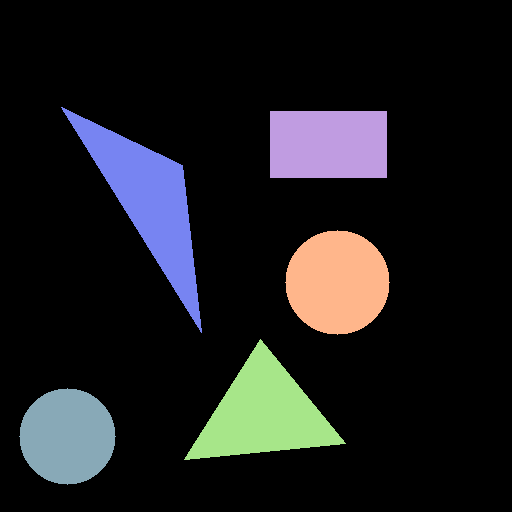circle: (285, 230, 389, 334), (19, 388, 115, 484)
rectangle: (270, 111, 386, 177)
triangle: (61, 107, 201, 332), (184, 339, 345, 459)
